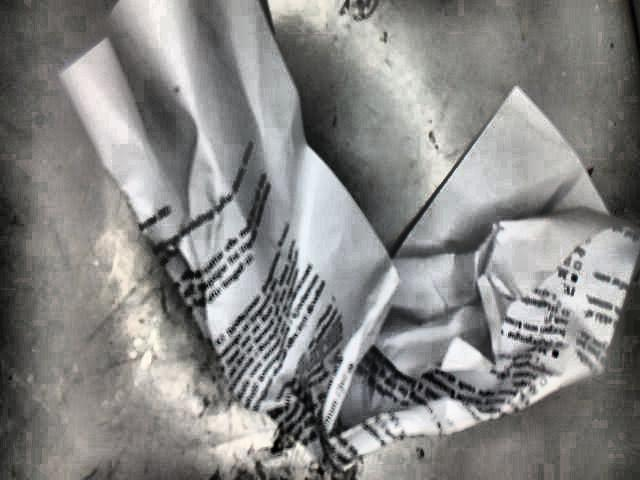Paper: (60, 2, 640, 471)
